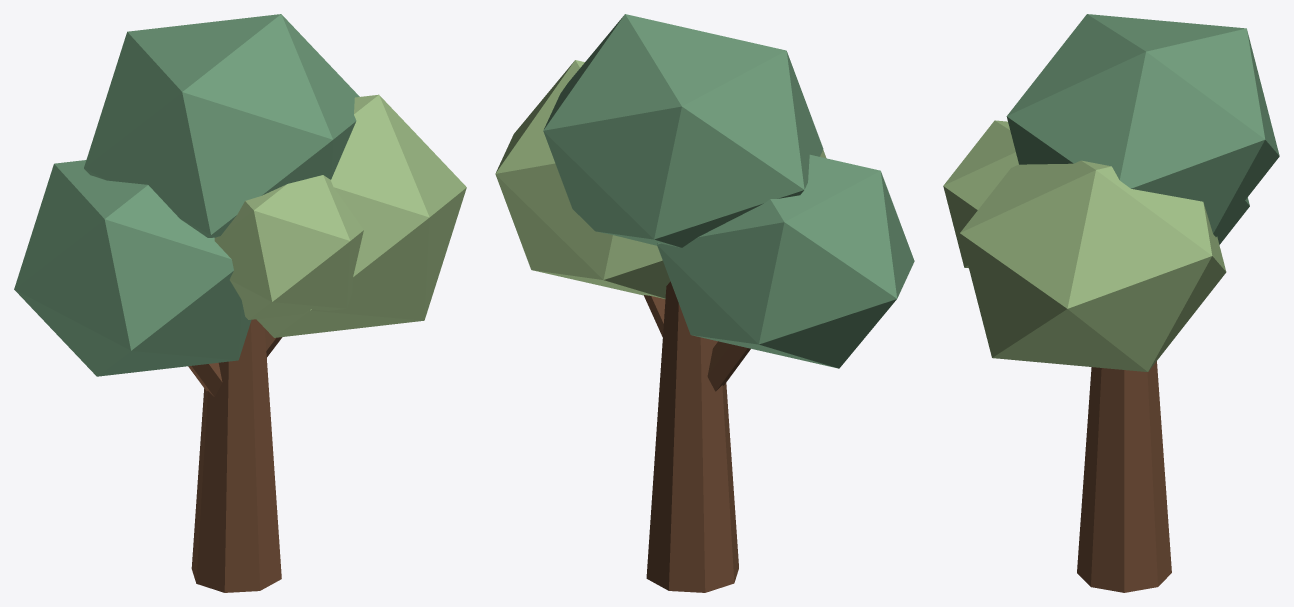
File: dub.glb
The picture shows the model from 3 angles, left to right: view 1: azimuth 30°, elevation 25°; view 2: azimuth 150°, elevation 25°; view 3: azimuth 270°, elevation 25°; orthographic projection. The views are drawn at different scales.
Visible parts, largest first — view 1: material_6d9978, material_9ebc85, material_785239; view 2: material_6d9978, material_785239, material_9ebc85; view 3: material_9ebc85, material_6d9978, material_785239.
Boxes of the visible parts, left/top/right/bottom form: material_6d9978: left=14, top=14, right=359, bottom=376; material_9ebc85: left=214, top=94, right=466, bottom=337; material_785239: left=188, top=319, right=282, bottom=592; material_6d9978: left=543, top=14, right=914, bottom=368; material_785239: left=643, top=281, right=750, bottom=592; material_9ebc85: left=495, top=60, right=826, bottom=298; material_9ebc85: left=943, top=120, right=1226, bottom=371; material_6d9978: left=1006, top=14, right=1279, bottom=244; material_785239: left=1077, top=361, right=1171, bottom=592.
Size of the model in its own units: 3.88 by 4.84 by 2.69.
